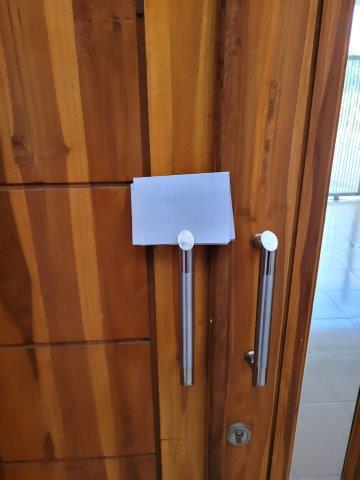kertas: (129, 170, 237, 245)
